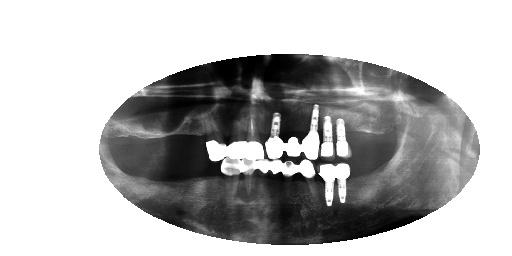Fillings: (206, 125, 229, 162), (222, 159, 242, 196), (247, 119, 264, 160), (228, 121, 246, 158), (300, 160, 317, 195), (283, 160, 300, 195), (286, 124, 302, 158), (255, 161, 270, 192), (242, 159, 256, 192), (271, 160, 282, 194)
Implant: (302, 105, 320, 160), (266, 111, 286, 158), (318, 163, 337, 207), (334, 117, 352, 158), (321, 114, 335, 156), (336, 163, 350, 204)
